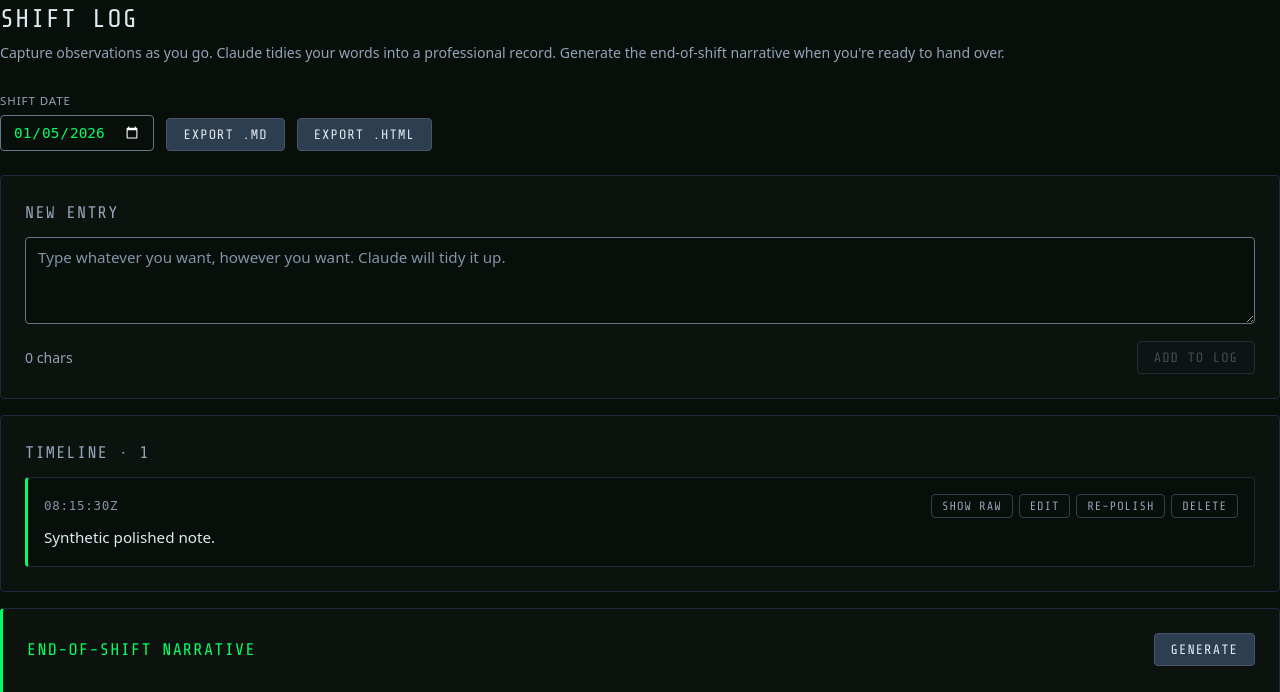
Test: the shift log page › keeps the draft and says why when an entry cannot be saved
Replace the text in the text box with placeholder "Type whatever you want, however you want. Claude will tidy it up." with "Synthetic entry": (640, 280) [25, 237, 1255, 324]
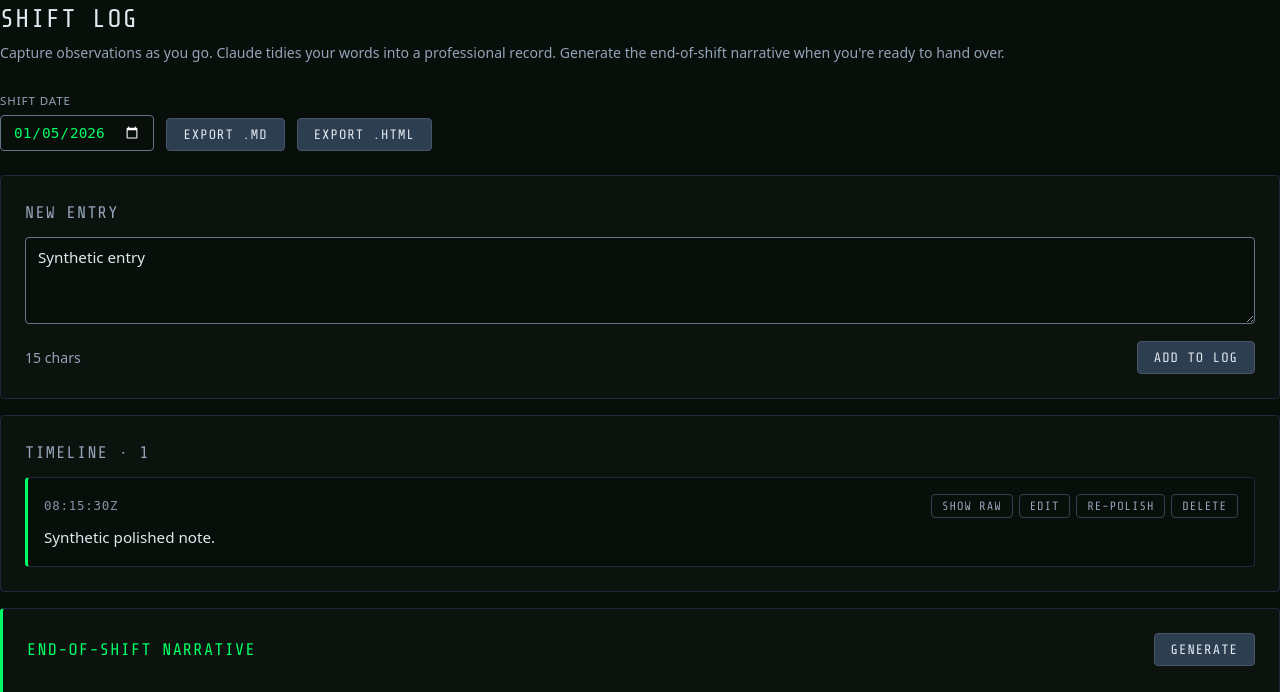
Click the button "Add to log": (1196, 358) [1137, 341, 1255, 374]
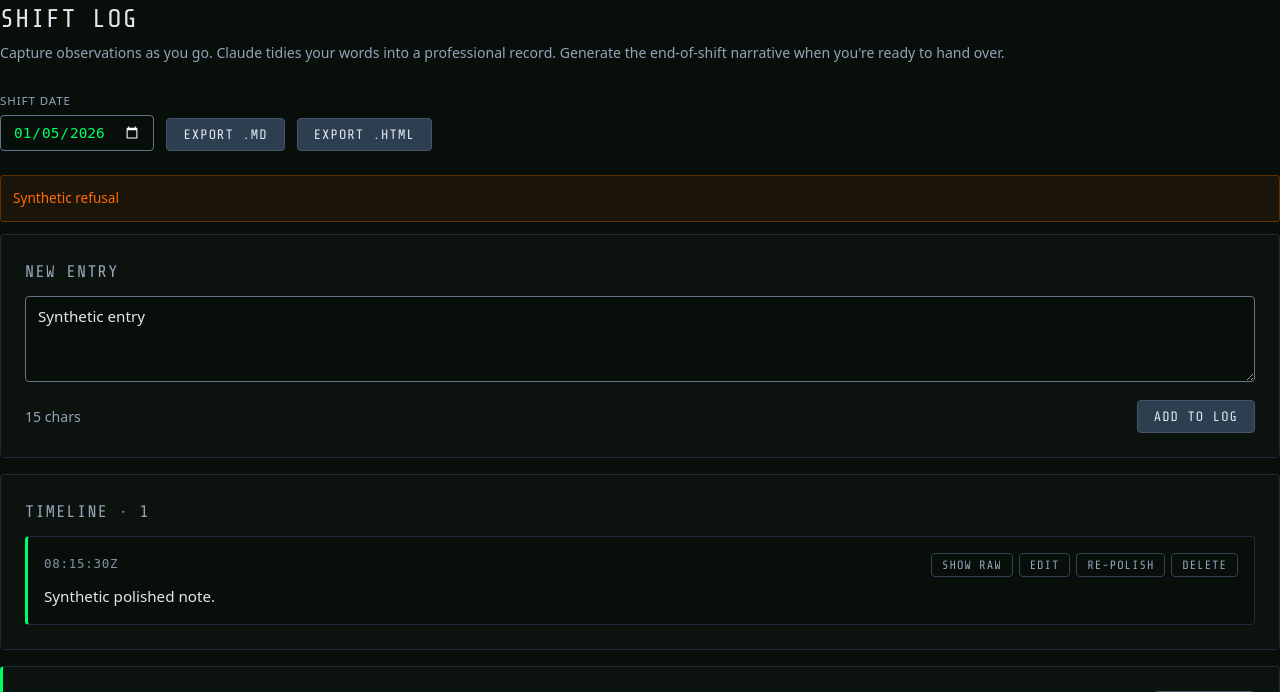
Now the text "Synthetic refusal" is shown, box [0, 175, 1279, 222]
Click the button "Add to log": (1196, 416) [1137, 400, 1255, 433]
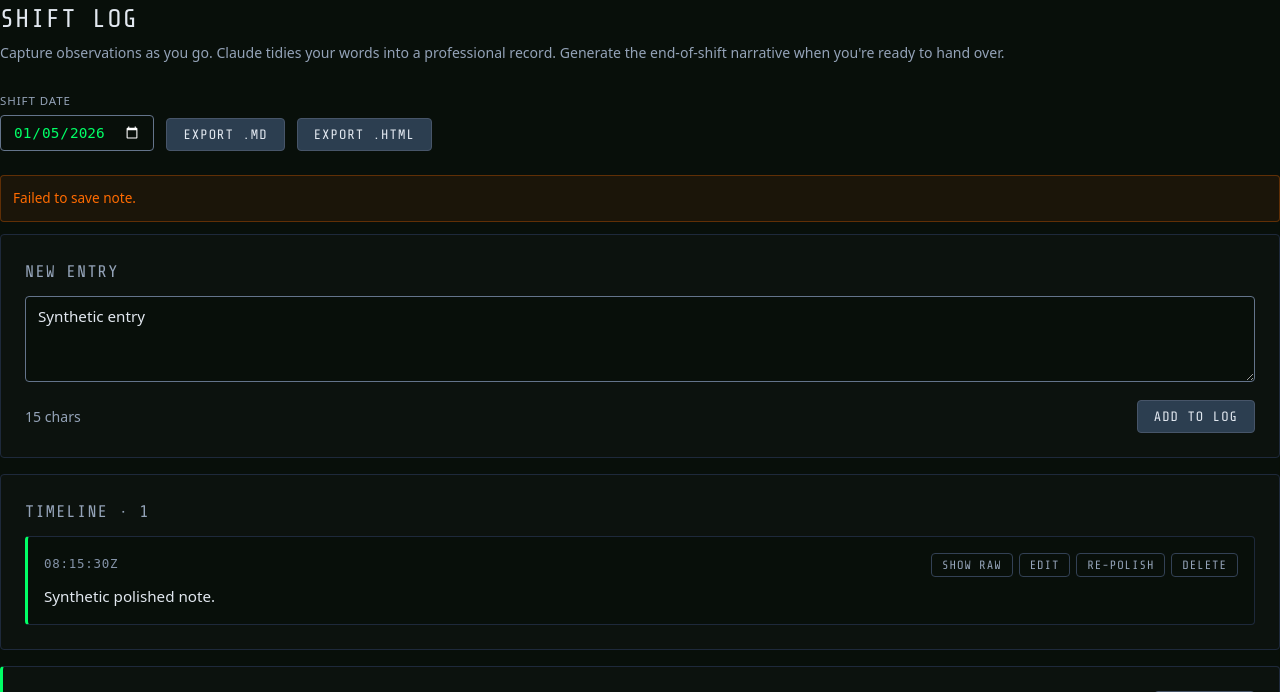
Now the button "Add to log" is enabled, box [1137, 400, 1255, 433]
Now the text "Failed to save note." is shown, box [0, 175, 1279, 222]
Now the text "Synthetic refusal" is gone
